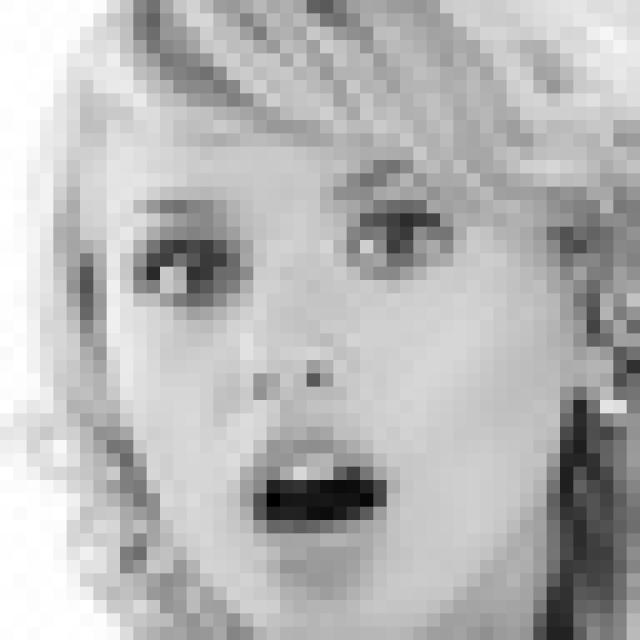surprise: (130, 151, 464, 570)
